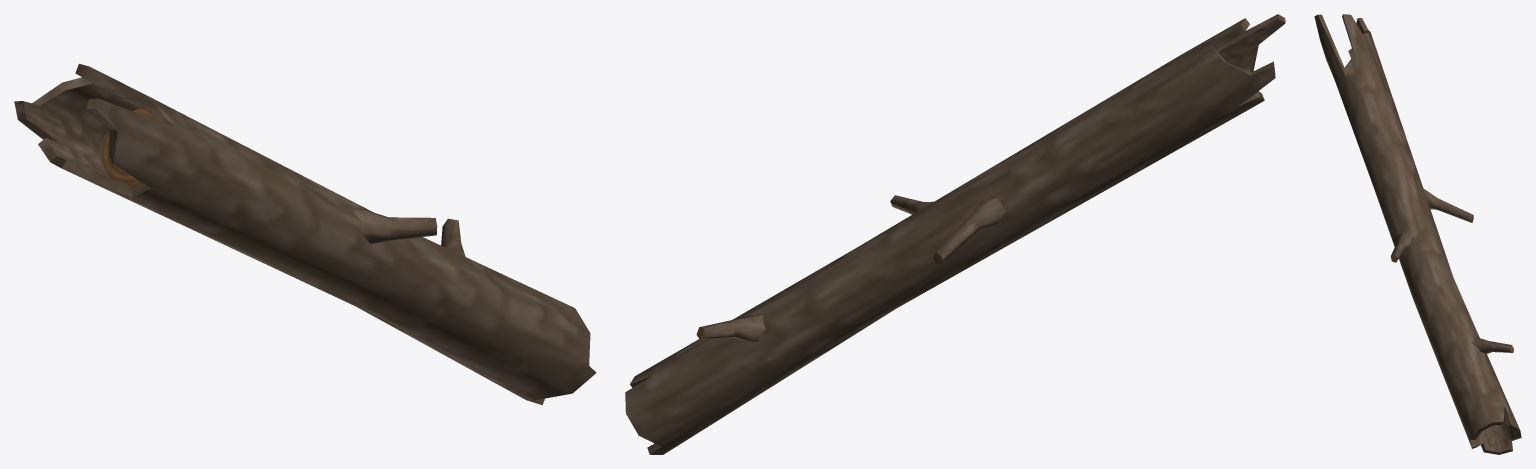
Rendered from Tree_Fall4.fbx.
3 renders of one model, left to right at view 1: azimuth 30°, elevation 25°; view 2: azimuth 150°, elevation 25°; view 3: azimuth 270°, elevation 25°, orthographic. The views are drawn at different scales.
Parts seen in each view (by area): view 1: Tree_Fall4; view 2: Tree_Fall4; view 3: Tree_Fall4.
Part boxes in pixels (x1,y1,x2,y2): Tree_Fall4: (14, 64, 596, 405); Tree_Fall4: (625, 14, 1285, 454); Tree_Fall4: (1314, 14, 1521, 454).
Size of the model in its own units: 358 by 293 by 185.
1 material, 1 textured.
